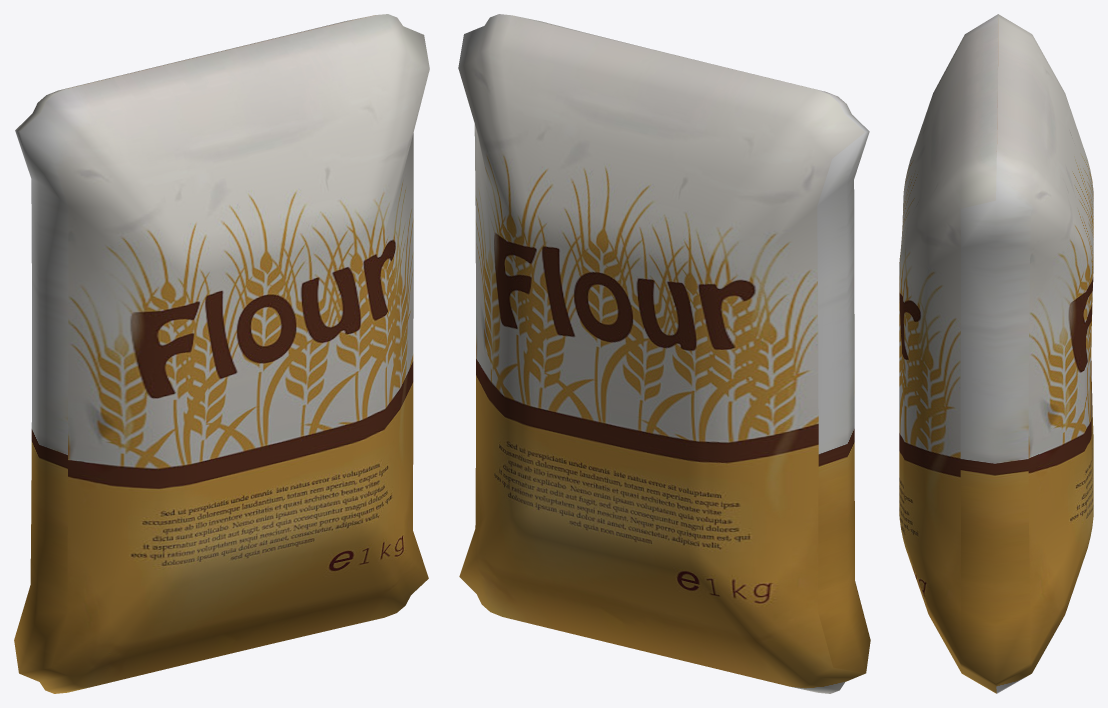
Rendered from flour_aridll.glb.
3 views of the same model, side by side, from view 1: azimuth 30°, elevation 25°; view 2: azimuth 150°, elevation 25°; view 3: azimuth 270°, elevation 25° (orthographic). The views are drawn at different scales.
Parts seen in each view (by area): view 1: Flour_0; view 2: Flour_0; view 3: Flour_0.
Boxes of the visible parts, x1=… form: Flour_0: x1=14, y1=14, x2=429, y2=693; Flour_0: x1=458, y1=14, x2=870, y2=693; Flour_0: x1=899, y1=14, x2=1093, y2=693.
Bounding box in the file's own units: 0.1756 × 0.2511 × 0.0821.
1 material, 1 textured.
